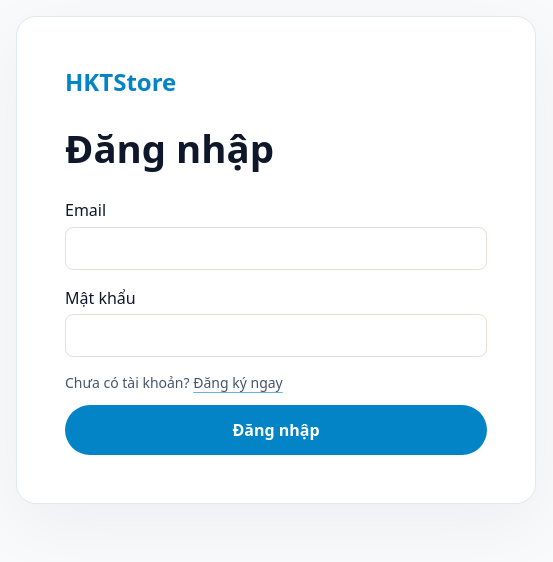
Test: Login UX › maps RATE_LIMITED
The image size is (553, 562).
Type "customer@test.local" into the field labelled "Email" at (276, 248), box [65,227,487,270]
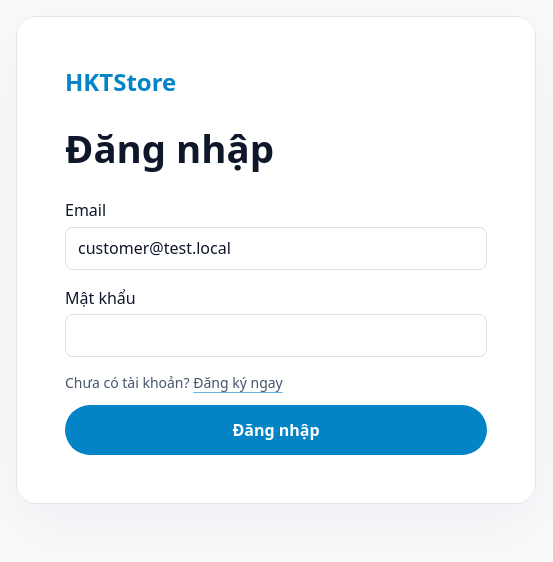
Type "Password123" into the password field labelled "Mật khẩu" at (276, 336), box [65,314,487,357]
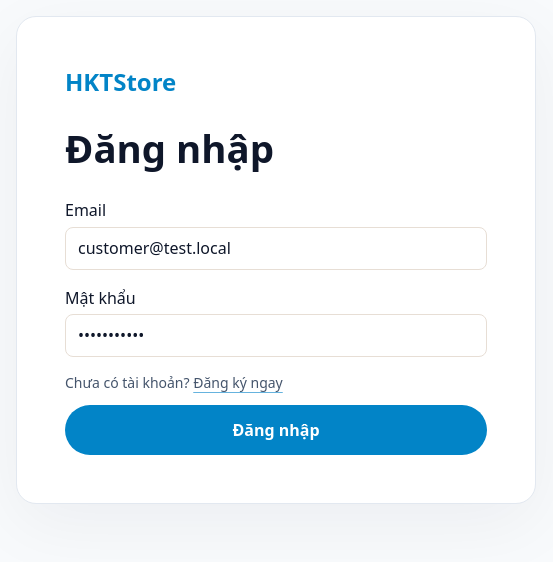
Click the button "Đăng nhập" at (276, 430), box [65,405,487,455]
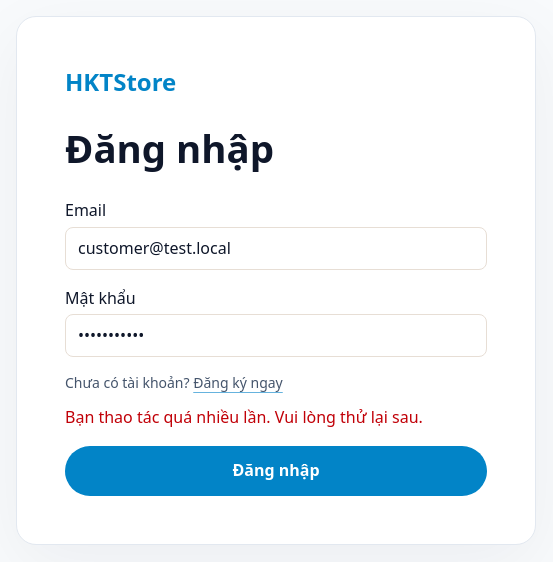
Expected: the message reads "Bạn thao tác quá nhiều lần. Vui lòng thử lại sau.", [65,406,423,428]
